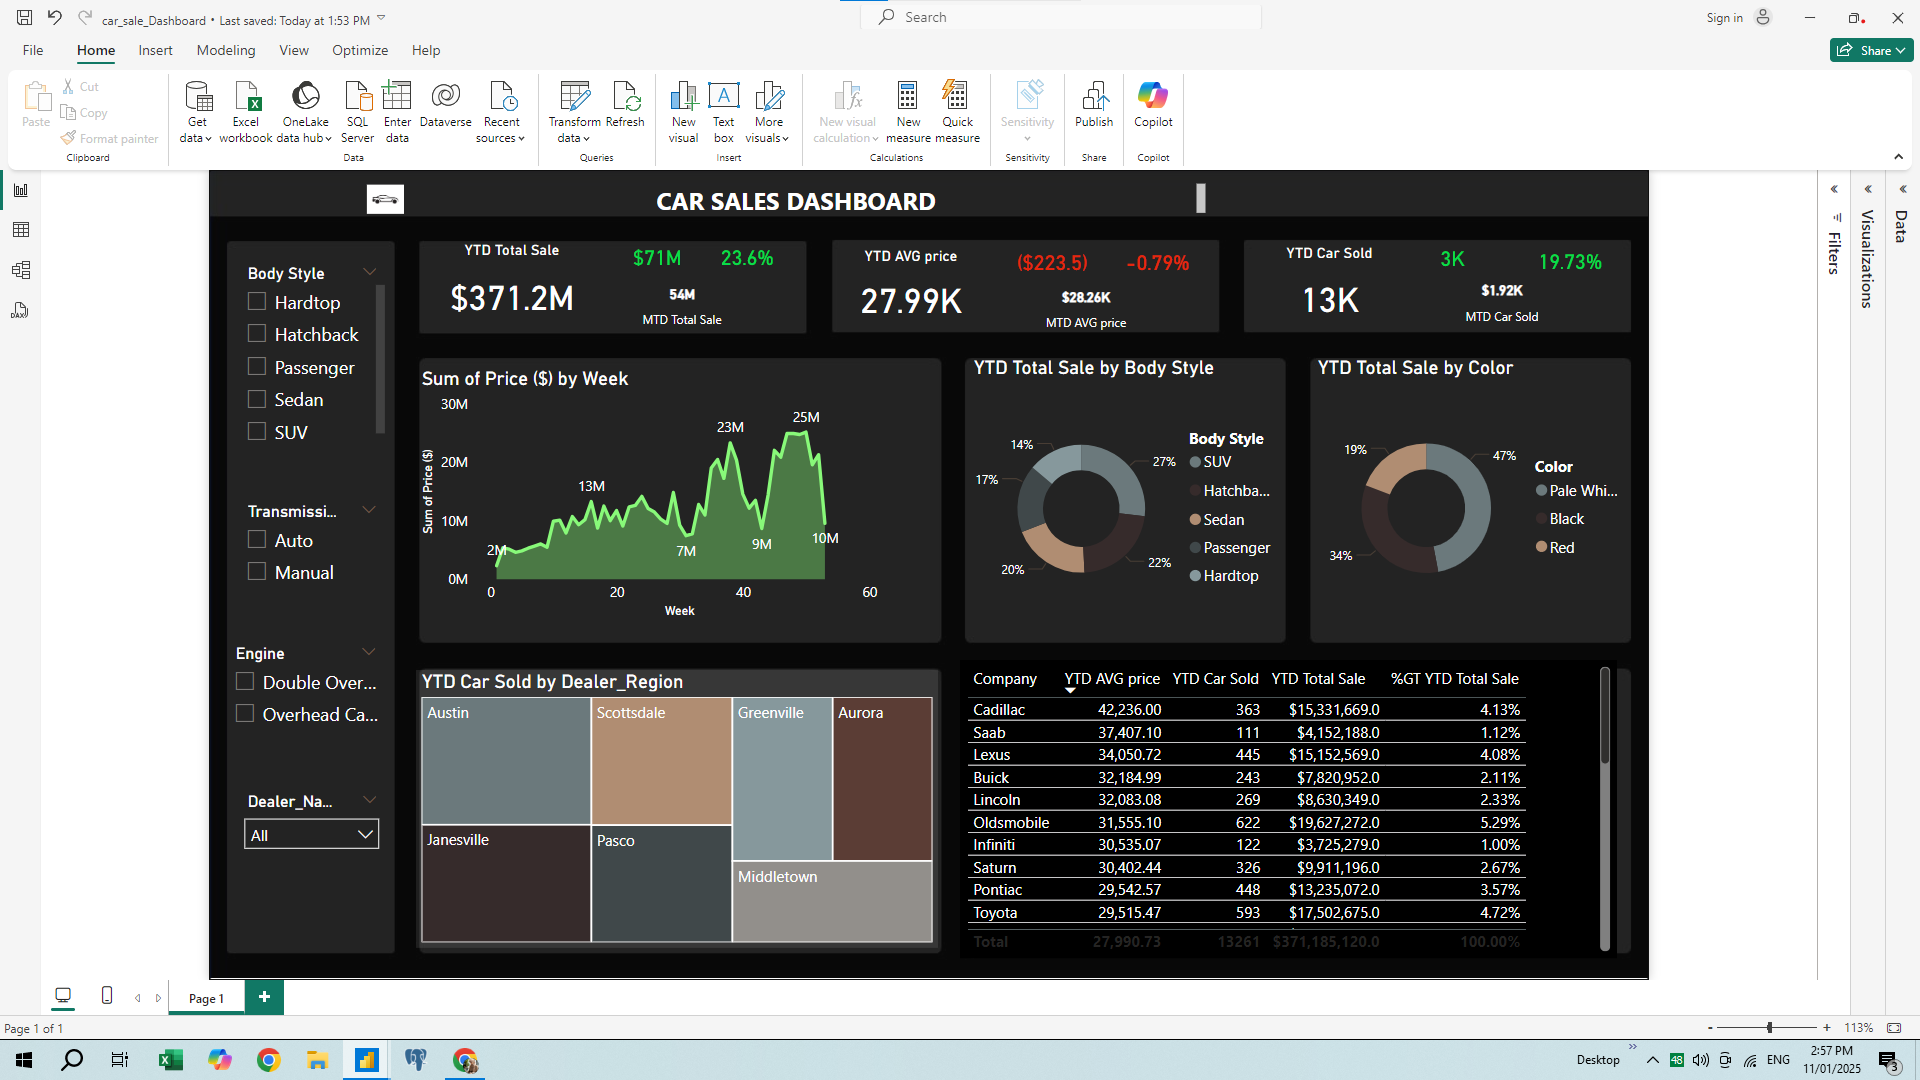

Layout of this report page (visuals, bound fields, positions):
{"tool":"powerbi","page":{"name":"Page 1","canvas":[1280,720],"ordinal":0},"visuals":[{"type":"card","title":"YTD Total Sale","fields":{"Values":["Calender Table.YTD Total Sale"]},"box":[192.9,63.1,152.9,82.7],"z":0},{"type":"card","title":"YTD AVG price","fields":{"Values":["Calender Table.YTD AVG price"]},"box":[556.4,68.4,135.1,77.3],"z":1000},{"type":"card","fields":{"Values":["Calender Table.Sales Diffrence"]},"box":[366.2,62.2,64,32.9],"z":2000},{"type":"card","fields":{"Values":["Calender Table.YOY Sale Growth"]},"box":[440.9,62.2,74.7,32.9],"z":3000},{"type":"card","fields":{"Values":["Calender Table.MTD Total Sale"]},"box":[345.8,95.1,149.3,48],"z":4000},{"type":"card","fields":{"Values":["Calender Table.AVG Price Diff"]},"box":[704,63.1,90.7,39.1],"z":5000},{"type":"card","fields":{"Values":["Calender Table.YOY AVG PRICE Growth"]},"box":[794.7,63.1,96,40],"z":6000},{"type":"card","fields":{"Values":["Calender Table.MTD AVG price"]},"box":[691.6,95.1,176,53.3],"z":7000},{"type":"card","title":"YTD Car Sold","fields":{"Values":["Calender Table.YTD Car Sold"]},"box":[928,65.8,136,80],"z":8000},{"type":"card","fields":{"Values":["Calender Table.Car Sold DIFF"]},"box":[1067.6,59.6,75.6,39.1],"z":9000},{"type":"card","fields":{"Values":["Calender Table.YOY Car Sold Growth"]},"box":[1161.8,62.2,96,39.1],"z":10000},{"type":"card","fields":{"Values":["Calender Table.MTD Car Sold"]},"box":[1067.6,88.9,163.6,54.2],"z":11000},{"type":"areaChart","fields":{"Category":["Calender Table.Week"],"Y":["Sum(car_data.Price ($))"]},"box":[184,175.1,417.8,227.6],"z":12000},{"type":"donutChart","fields":{"Y":["Calender Table.YTD Total Sale"],"Category":["car_data.Body Style"]},"box":[674.7,165.3,284.4,252.4],"z":13000},{"type":"donutChart","fields":{"Y":["Calender Table.YTD Total Sale"],"Category":["car_data.Color"]},"box":[980.4,165.3,287.1,251.6],"z":14000},{"type":"treemap","fields":{"Values":["Calender Table.YTD Car Sold"],"Group":["car_data.Dealer_Region"]},"box":[184,444.4,464,247.1],"z":15000},{"type":"tableEx","fields":{"Values":["car_data.Company","Calender Table.YTD AVG price","Calender Table.YTD Car Sold","Calender Table.YTD Total Sale1","Calender Table.YTD Total Sale"]},"box":[667.6,435.6,584,264.9],"z":16000},{"type":"textbox","box":[345.8,7.1,544.9,37.3],"z":17000},{"type":"slicer","fields":{"Values":["car_data.Body Style"]},"box":[21.3,79.1,140.4,171.6],"z":18000},{"type":"slicer","fields":{"Values":["car_data.Engine"]},"box":[10.7,416.9,150.2,90.7],"z":19000},{"type":"slicer","fields":{"Values":["car_data.Transmission"]},"box":[21.3,290.7,139.6,88.9],"z":20000},{"type":"slicer","fields":{"Values":["car_data.Dealer_Name"]},"box":[21.3,548.4,140.4,91.6],"z":21000},{"type":"image","box":[21.3,8,270.2,36.4],"z":22000}]}

Visuals, with their boxes on the page's 1280x720 design canvas (x1, y1, x2, y2). These are canvas units, not pixel positions in the 1920x1080 screenshot, which may show the page scaled, cropped or inside an application window:
"YTD Total Sale" card: Rect(193, 63, 346, 146)
"YTD AVG price" card: Rect(556, 68, 692, 146)
card - Calender Table.Sales Diffrence: Rect(366, 62, 430, 95)
card - Calender Table.YOY Sale Growth: Rect(441, 62, 516, 95)
card - Calender Table.MTD Total Sale: Rect(346, 95, 495, 143)
card - Calender Table.AVG Price Diff: Rect(704, 63, 795, 102)
card - Calender Table.YOY AVG PRICE Growth: Rect(795, 63, 891, 103)
card - Calender Table.MTD AVG price: Rect(692, 95, 868, 148)
"YTD Car Sold" card: Rect(928, 66, 1064, 146)
card - Calender Table.Car Sold DIFF: Rect(1068, 60, 1143, 99)
card - Calender Table.YOY Car Sold Growth: Rect(1162, 62, 1258, 101)
card - Calender Table.MTD Car Sold: Rect(1068, 89, 1231, 143)
areaChart - Calender Table.Week x Sum(car_data.Price ($)): Rect(184, 175, 602, 403)
donutChart - Calender Table.YTD Total Sale x car_data.Body Style: Rect(675, 165, 959, 418)
donutChart - Calender Table.YTD Total Sale x car_data.Color: Rect(980, 165, 1268, 417)
treemap - Calender Table.YTD Car Sold x car_data.Dealer_Region: Rect(184, 444, 648, 692)
tableEx - car_data.Company x Calender Table.YTD AVG price: Rect(668, 436, 1252, 700)
textbox: Rect(346, 7, 891, 44)
slicer - car_data.Body Style: Rect(21, 79, 162, 251)
slicer - car_data.Engine: Rect(11, 417, 161, 508)
slicer - car_data.Transmission: Rect(21, 291, 161, 380)
slicer - car_data.Dealer_Name: Rect(21, 548, 162, 640)
image: Rect(21, 8, 292, 44)
